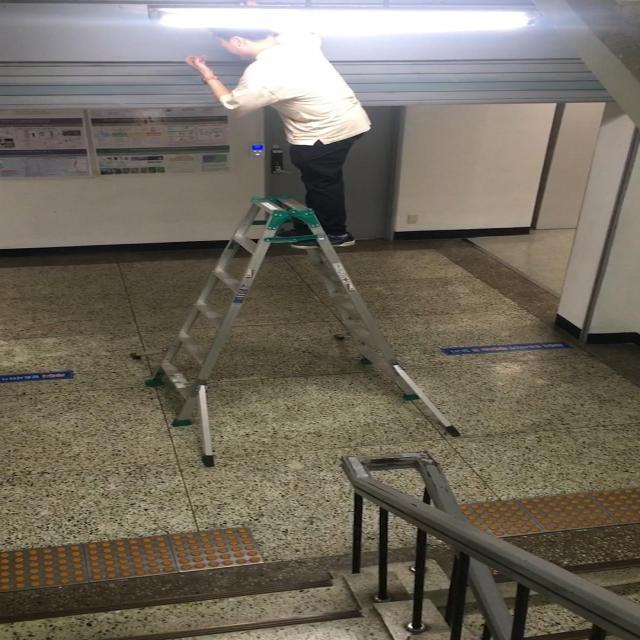Robbery: (164, 19, 412, 270)
